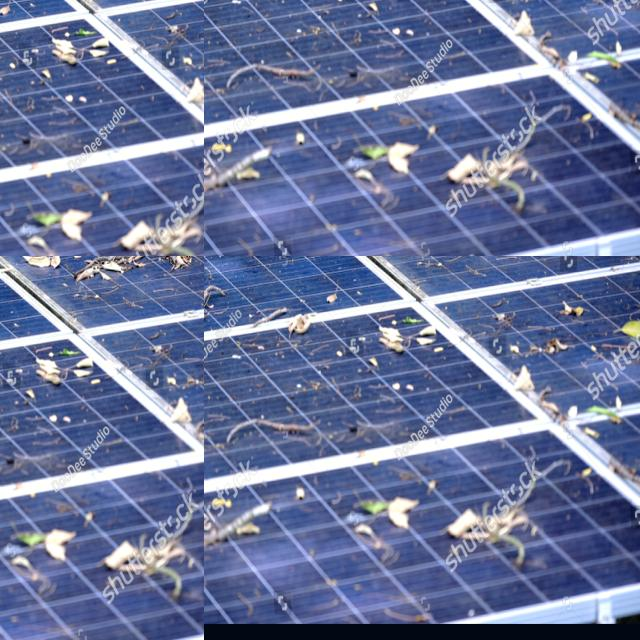bird: (0, 335, 17, 378), (204, 0, 225, 29), (51, 256, 74, 277), (252, 0, 282, 15), (204, 0, 227, 19), (0, 256, 19, 276), (323, 0, 342, 15), (0, 256, 11, 277), (0, 256, 14, 270), (204, 0, 222, 10), (0, 256, 12, 270), (204, 0, 215, 8), (0, 256, 9, 265)
